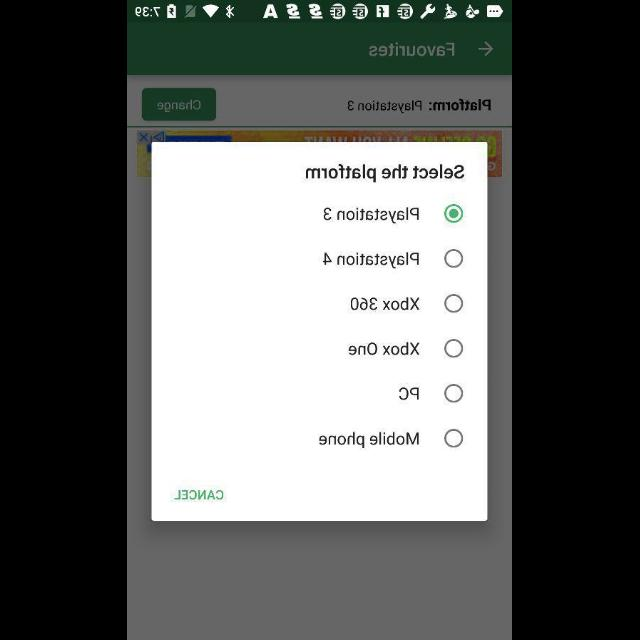checkbox: (444, 250, 464, 268), (445, 384, 463, 402), (446, 429, 464, 447), (446, 294, 462, 314), (445, 205, 463, 222), (446, 339, 462, 357)
icon: (480, 43, 494, 57)
panel: (152, 142, 490, 522)
text: (306, 164, 464, 183), (348, 100, 492, 114), (324, 206, 420, 224), (323, 252, 419, 268), (320, 432, 420, 446), (370, 42, 454, 58), (350, 342, 420, 356), (352, 298, 421, 310), (176, 490, 224, 500), (400, 387, 420, 401)
textbutton: (143, 88, 217, 122)
uppertaskbar: (128, 1, 512, 23)
